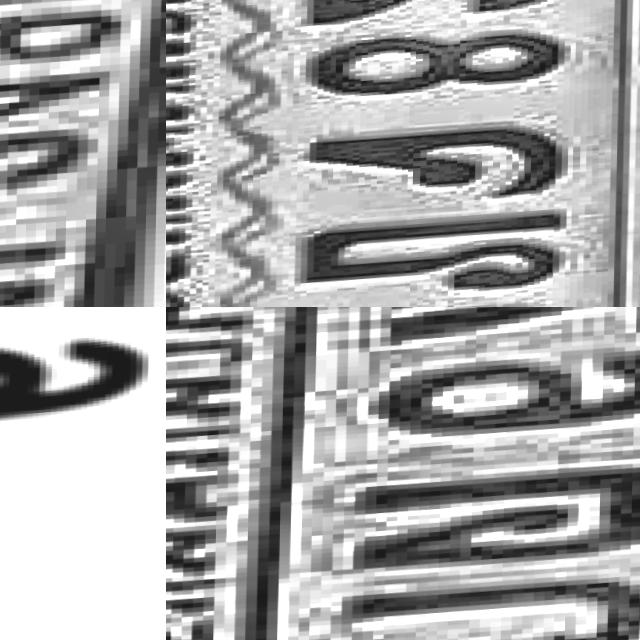license-plate: (166, 307, 640, 640), (166, 0, 640, 307), (0, 307, 166, 640), (0, 0, 166, 307)
